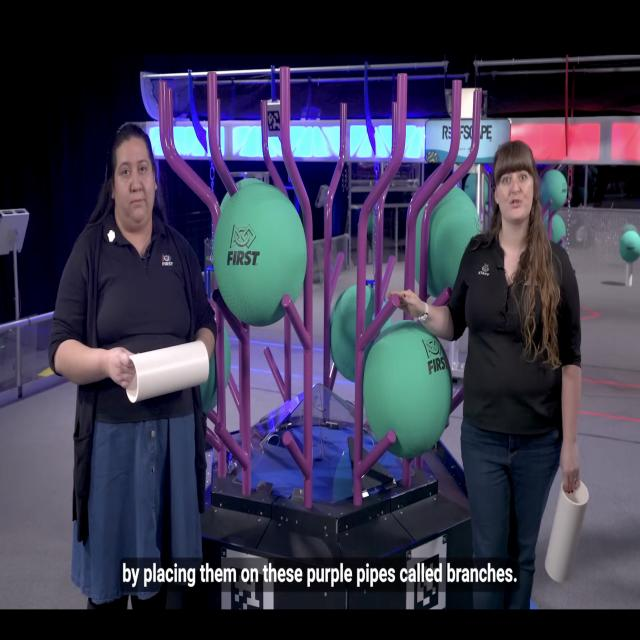algae: (210, 180, 312, 336), (362, 322, 458, 465), (406, 181, 483, 304), (326, 275, 391, 382), (199, 303, 233, 416), (540, 168, 568, 214), (545, 207, 566, 251), (619, 224, 640, 268)
coral: (124, 337, 214, 404), (546, 474, 590, 579), (624, 259, 632, 289)
